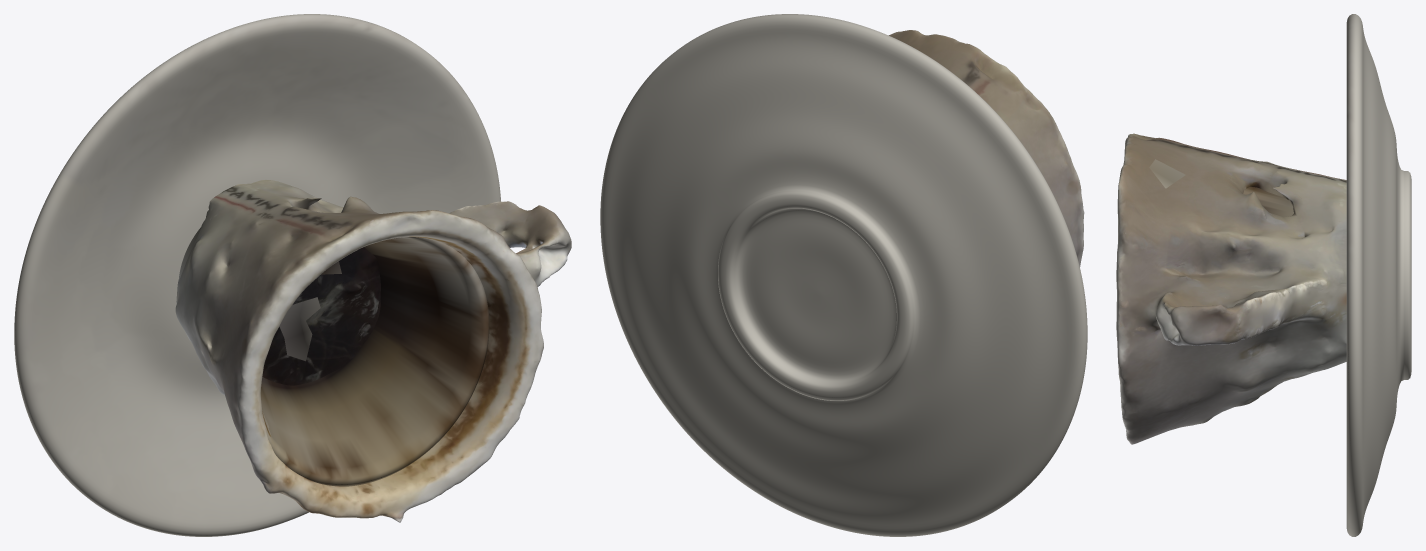
File: coffee-test.glb
3 views of the same model, side by side, from view 1: azimuth 30°, elevation 25°; view 2: azimuth 150°, elevation 25°; view 3: azimuth 270°, elevation 25° (orthographic). The views are drawn at different scales.
Parts seen in each view (by area): view 1: Repaired coffee scan; view 2: Repaired coffee scan; view 3: Repaired coffee scan.
Part boxes in pixels (x1=…): Repaired coffee scan: x1=14, y1=14, x2=571, y2=536; Repaired coffee scan: x1=600, y1=14, x2=1087, y2=536; Repaired coffee scan: x1=1116, y1=14, x2=1411, y2=536.
Size of the model in its own units: 0.3048 by 0.3048 by 0.1722.
3 materials, 1 textured.
